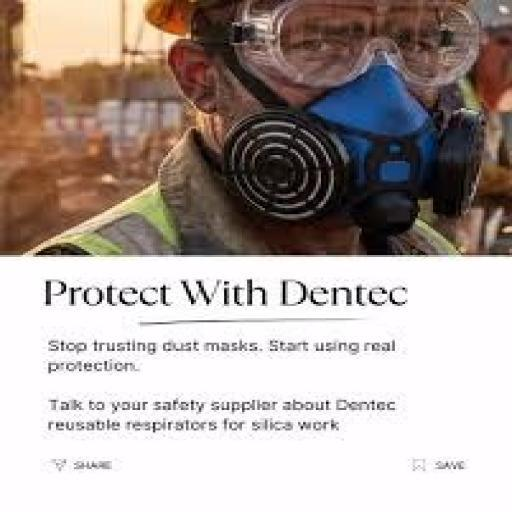mask: (229, 82, 512, 241)
